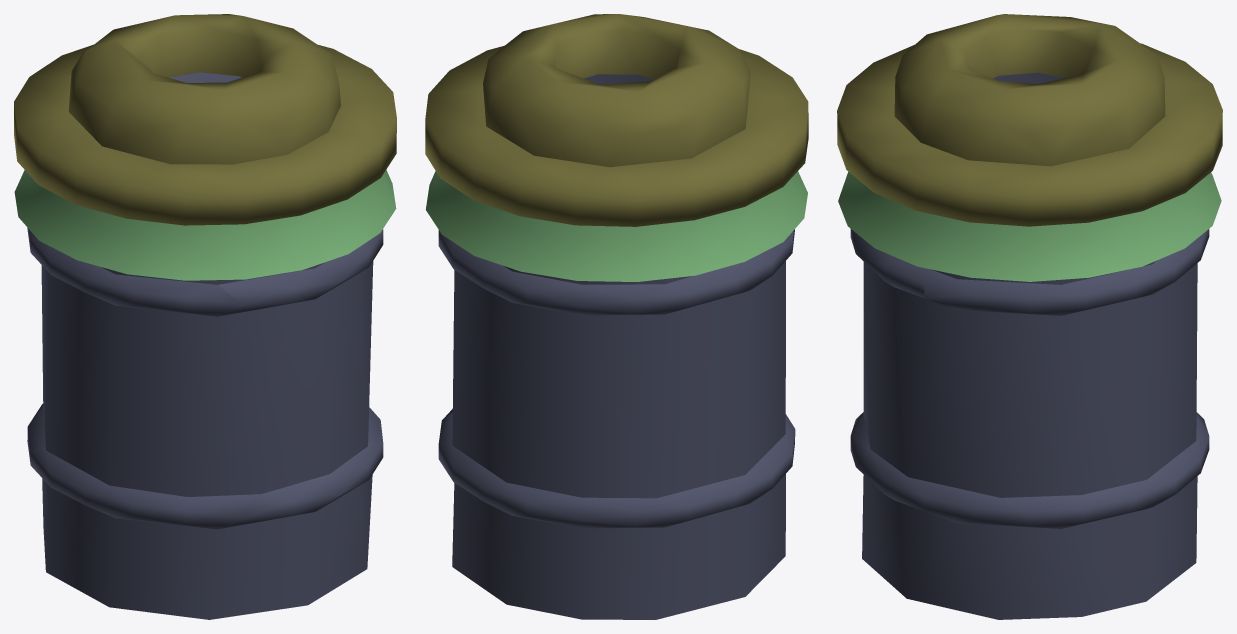
The model's file is Trashcan_Decimated.fbx.
The picture shows the model from 3 angles, left to right: view 1: azimuth 30°, elevation 25°; view 2: azimuth 150°, elevation 25°; view 3: azimuth 270°, elevation 25°; orthographic projection.
Visible parts, largest first — view 1: TrashCan_Original:TrashCan; view 2: TrashCan_Original:TrashCan; view 3: TrashCan_Original:TrashCan.
Boxes of the visible parts, x1,y1,x2,y2 form: TrashCan_Original:TrashCan: (14, 14, 396, 619); TrashCan_Original:TrashCan: (425, 14, 808, 619); TrashCan_Original:TrashCan: (837, 14, 1222, 619).
Size of the model in its own units: 80.86 by 115 by 80.89.
